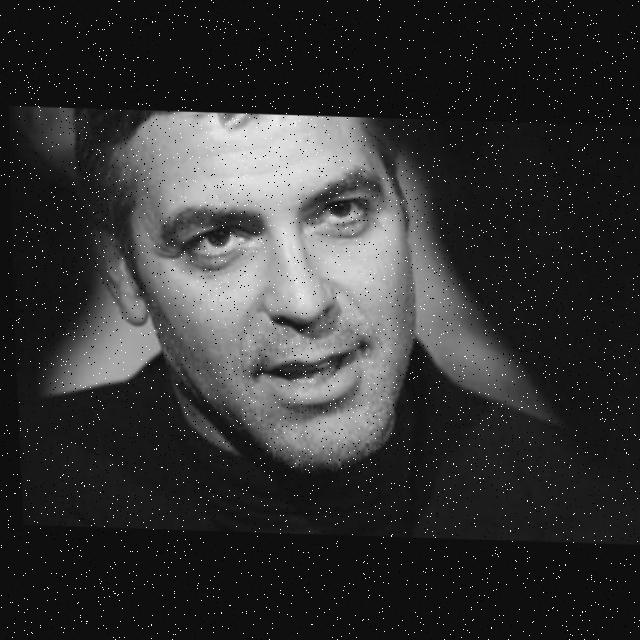face: (80, 107, 475, 468)
